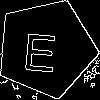E: (21, 23, 60, 73)
